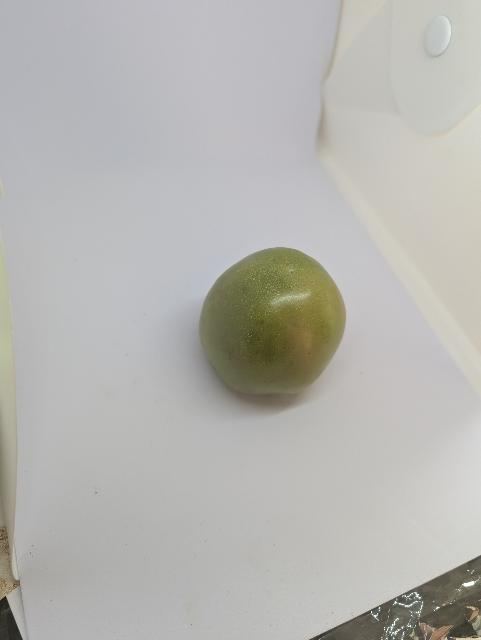green: (191, 233, 352, 414)
